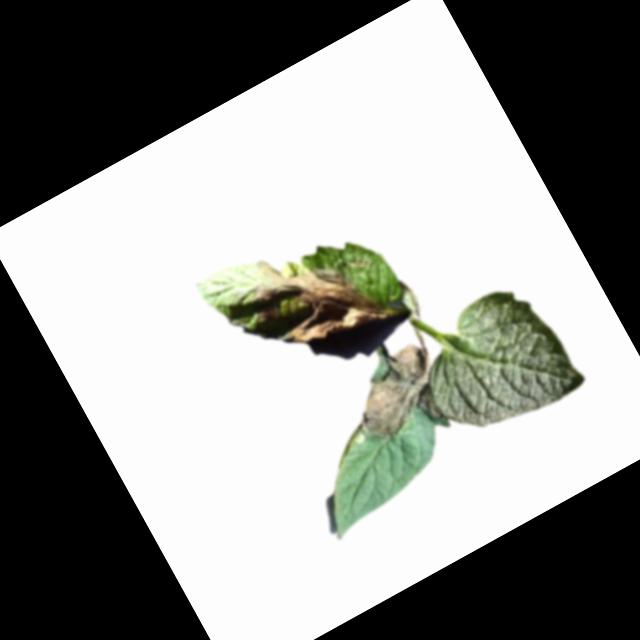Late_blight: (230, 214, 398, 376), (337, 338, 455, 449)
healthy: (401, 272, 588, 454)
